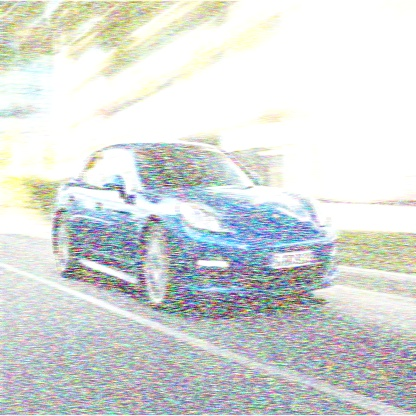Vehicle: (52, 142, 340, 314)
